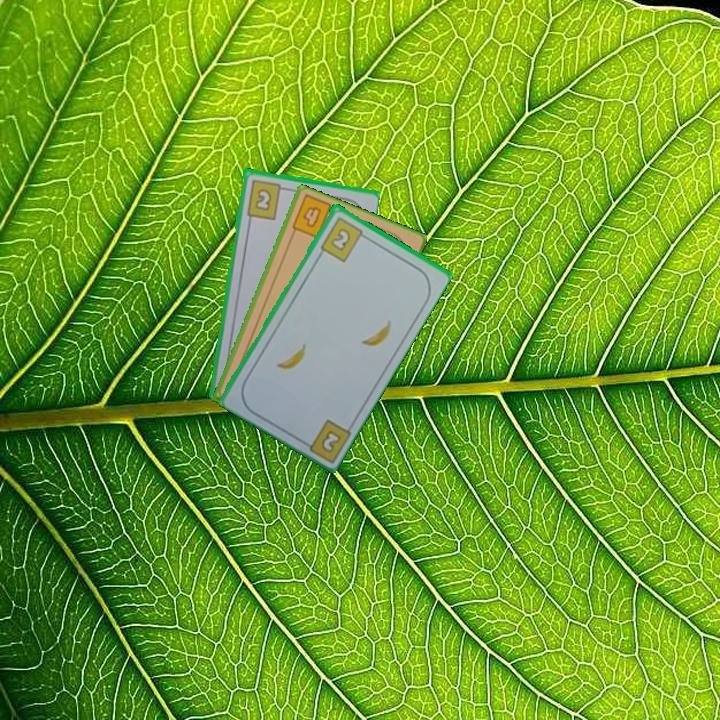2b: (316, 213, 370, 264), (297, 415, 353, 463), (243, 176, 289, 221)
4b: (299, 202, 324, 230)
